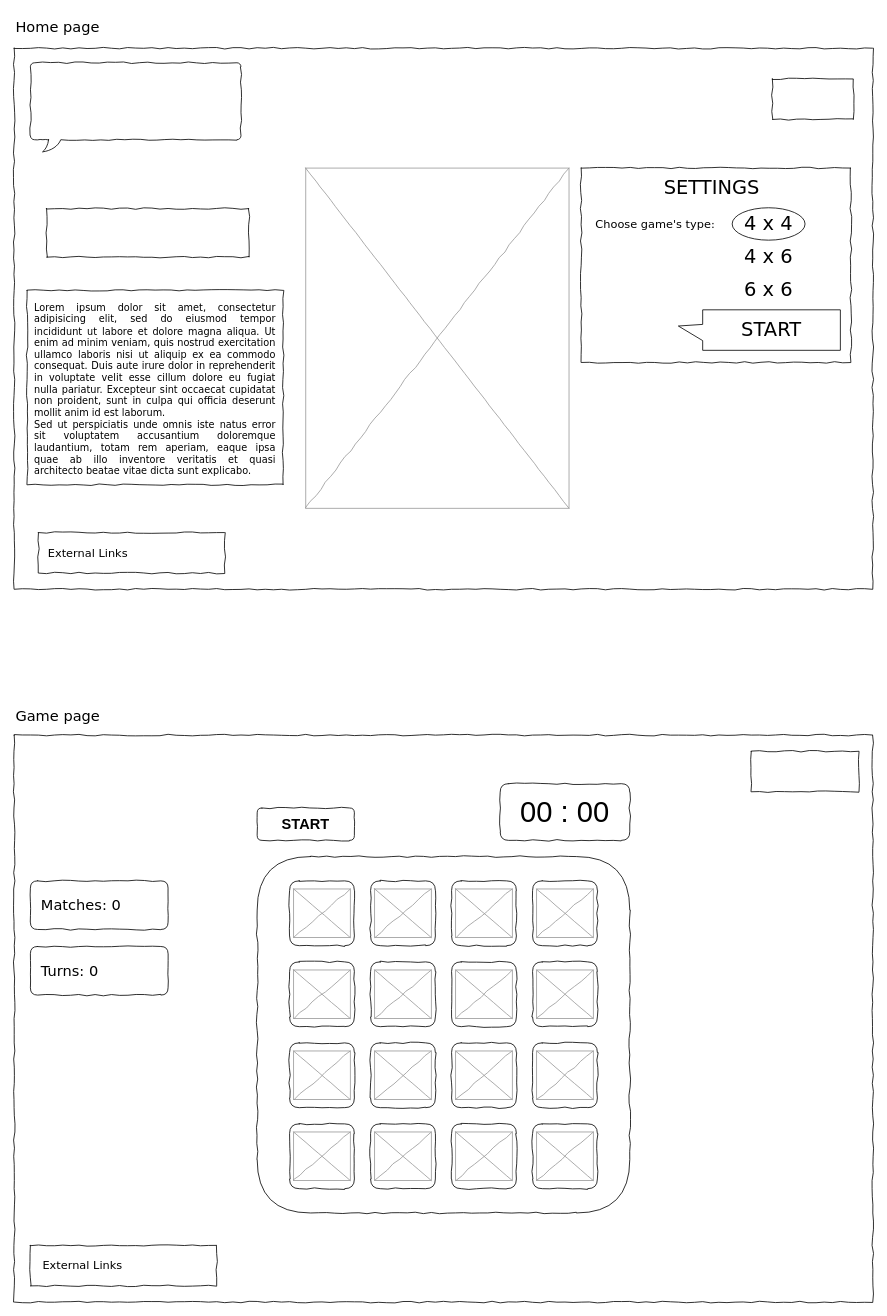
Image size: 887x1316. Some labels were removed from this diagram. Each missing label, with the box of its shape:
GAME: (772, 78, 853, 119)
HOME: (750, 750, 859, 792)
MEMORY GAME: (46, 208, 249, 257)
WELCOME MESSAGE: (30, 62, 241, 152)
